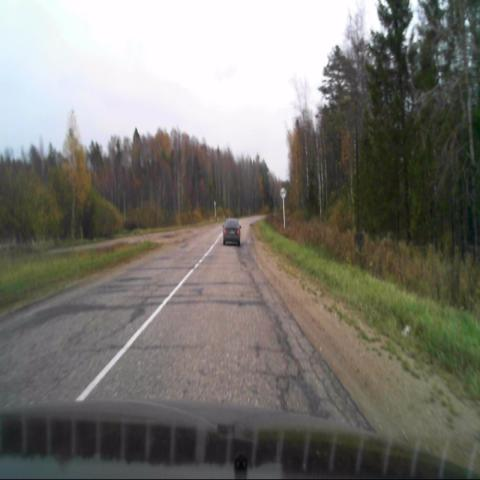3_21: (279, 187, 286, 198)
